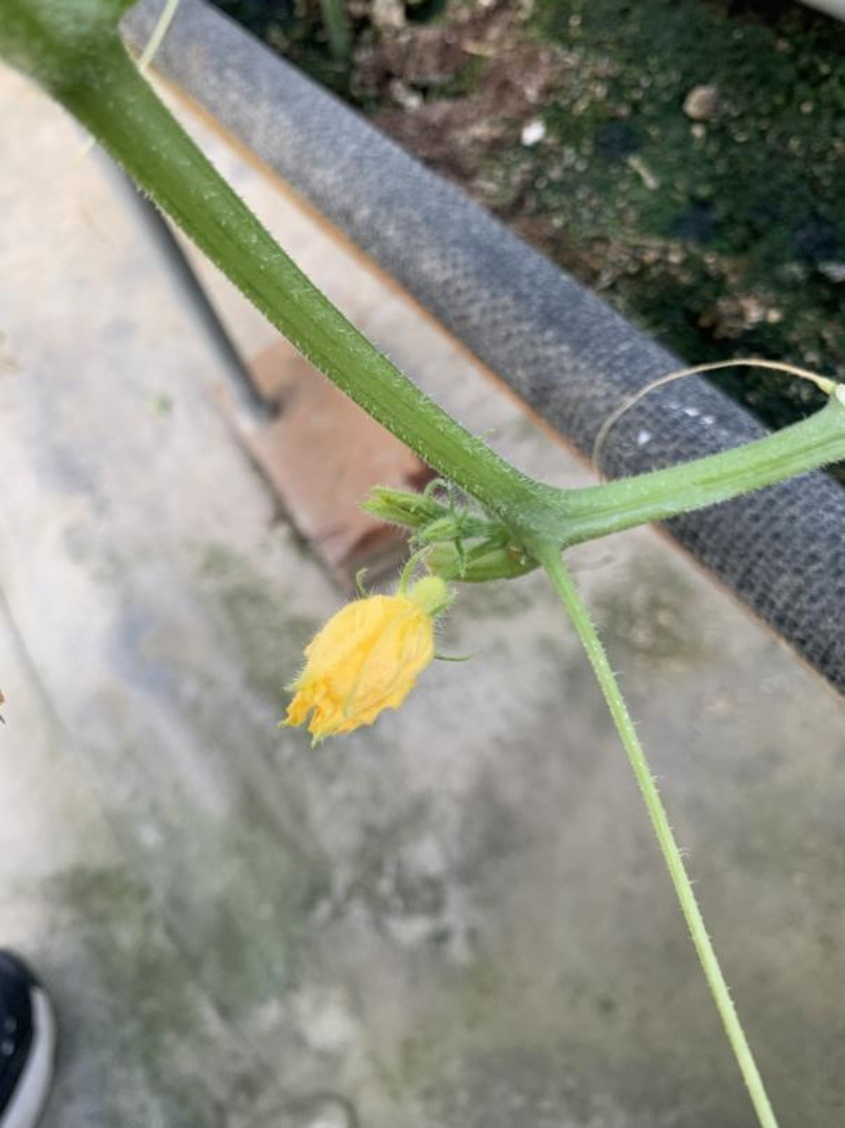bud: (227, 553, 476, 763)
